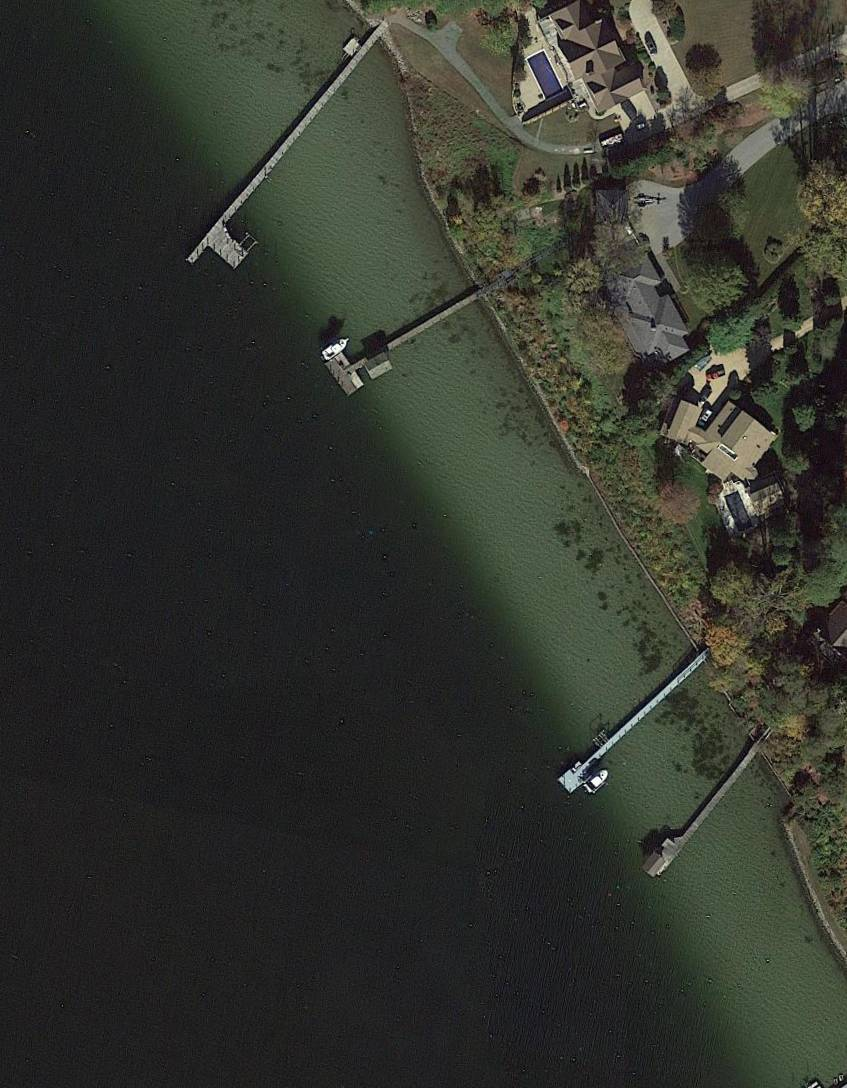harbor: (186, 58, 387, 290), (556, 662, 696, 795), (325, 282, 476, 400), (641, 744, 754, 882)
ship: (318, 333, 353, 363), (582, 764, 614, 796)
swimming pool: (526, 50, 565, 101)
